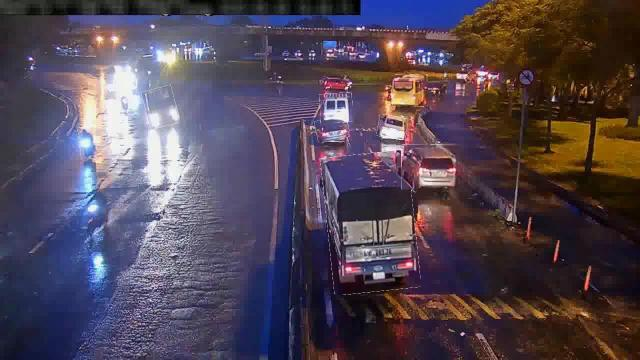Bike: (79, 126, 97, 160)
Bus: (144, 86, 178, 128), (392, 74, 428, 106), (320, 93, 352, 123)
Car: (402, 144, 458, 190), (315, 116, 349, 142), (377, 116, 408, 140)
Truck: (324, 151, 418, 293)
